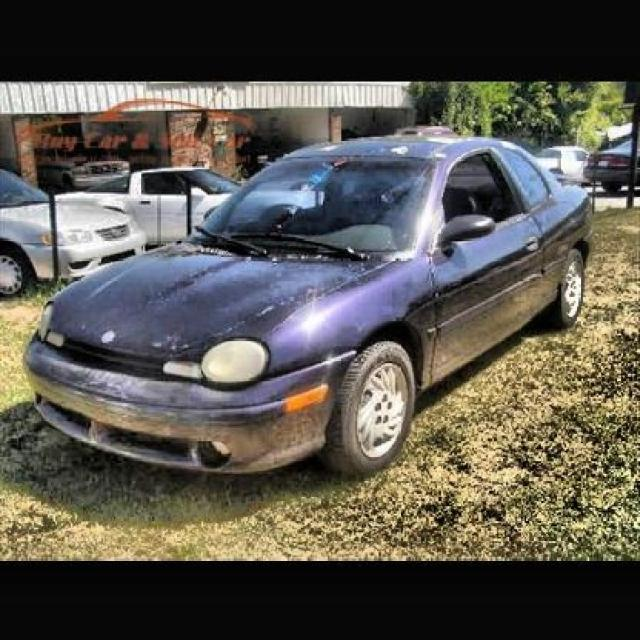black: (38, 131, 640, 451)
